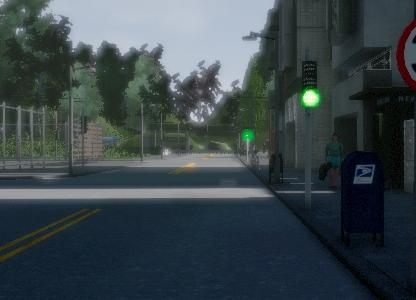Speed_30: (393, 2, 416, 105)
